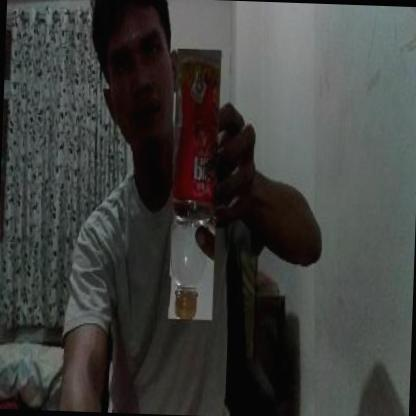plastic_bottles: (168, 49, 222, 320)
